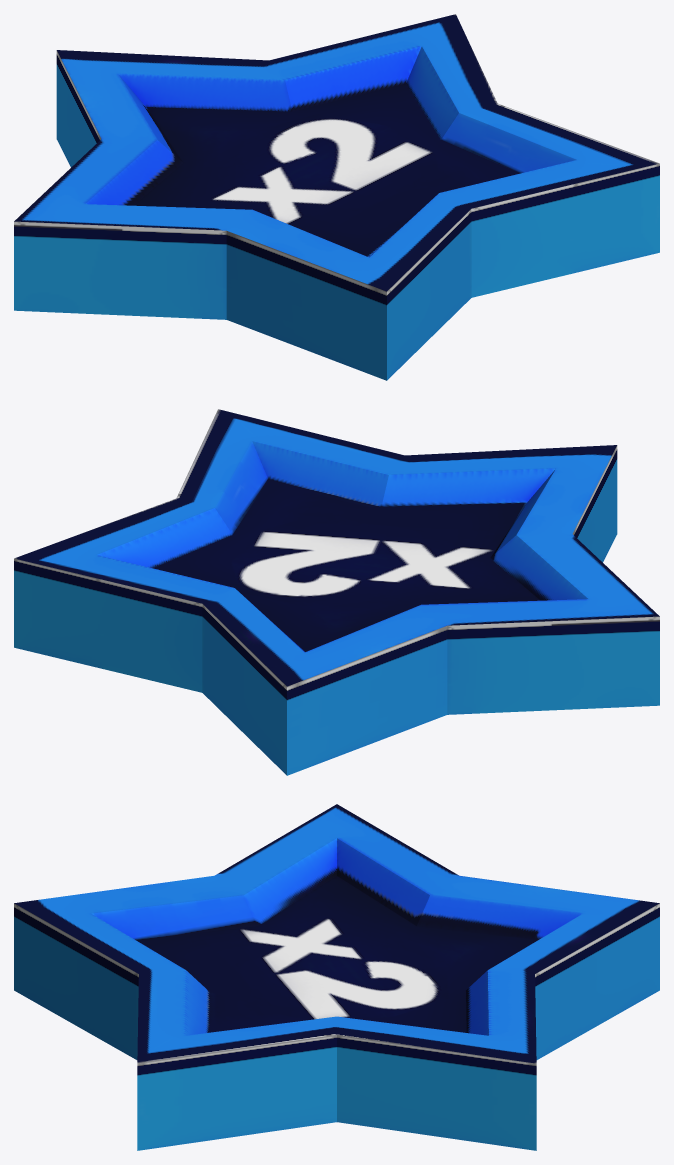
The model's file is ScoreDouble.FBX.
The picture shows the model from 3 angles, top to bottom: view 1: azimuth 30°, elevation 25°; view 2: azimuth 150°, elevation 25°; view 3: azimuth 270°, elevation 25°; orthographic projection. The views are drawn at different scales.
Parts seen in each view (by area): view 1: ScoreDouble; view 2: ScoreDouble; view 3: ScoreDouble.
Boxes of the visible parts, box(x1,y1,x2,y2) form: ScoreDouble: box(14, 14, 659, 380); ScoreDouble: box(14, 409, 659, 775); ScoreDouble: box(14, 804, 659, 1150).
Size of the model in its own units: 211 by 33.05 by 222.
1 material, 1 textured.
